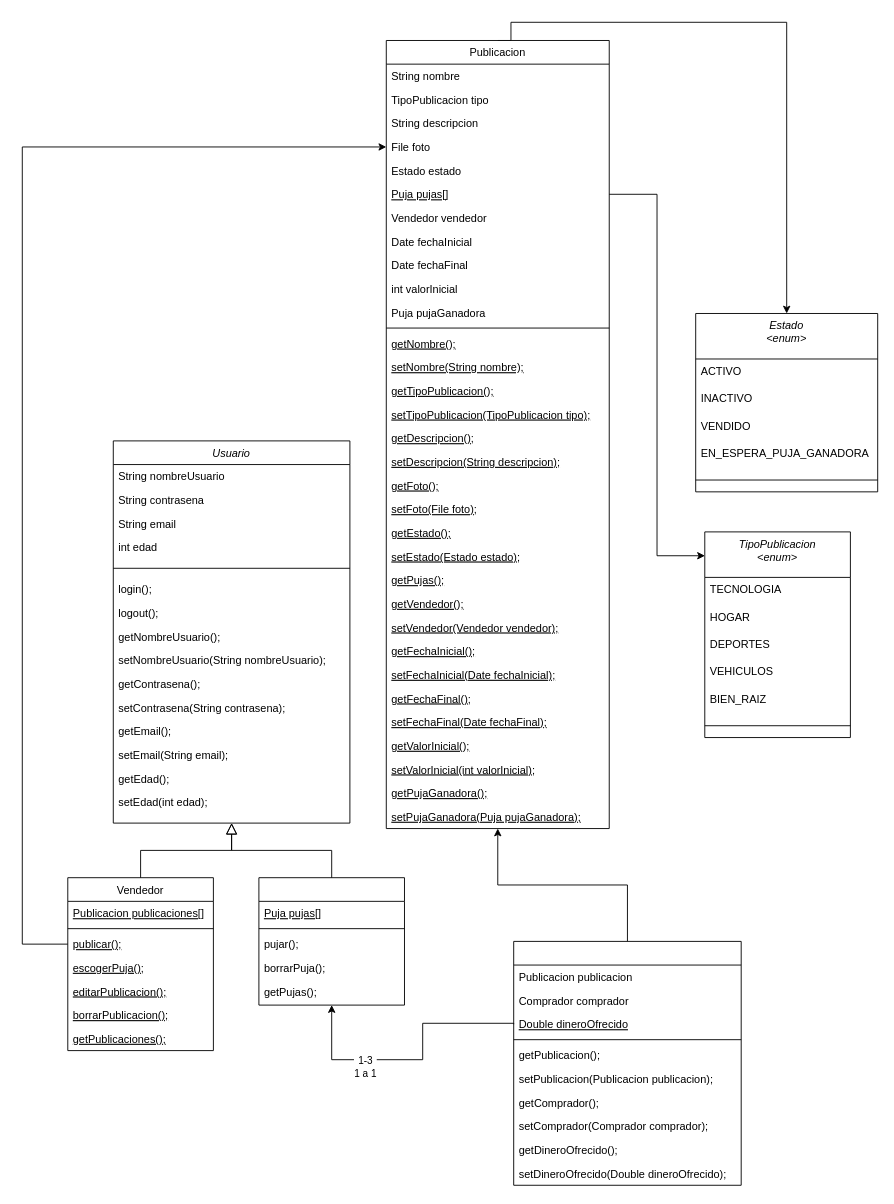
The diagram is 894 pixels wide and 1204 high, and some of its shapes have lost their labels. The box of each missing label's shape, as (x1, y1, x2, y2) in pixels:
Comprador: (258, 877, 404, 1005)
Puja: (513, 940, 741, 1185)
